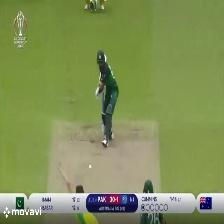ball: (85, 163, 96, 168)
batsman: (90, 49, 122, 149)
